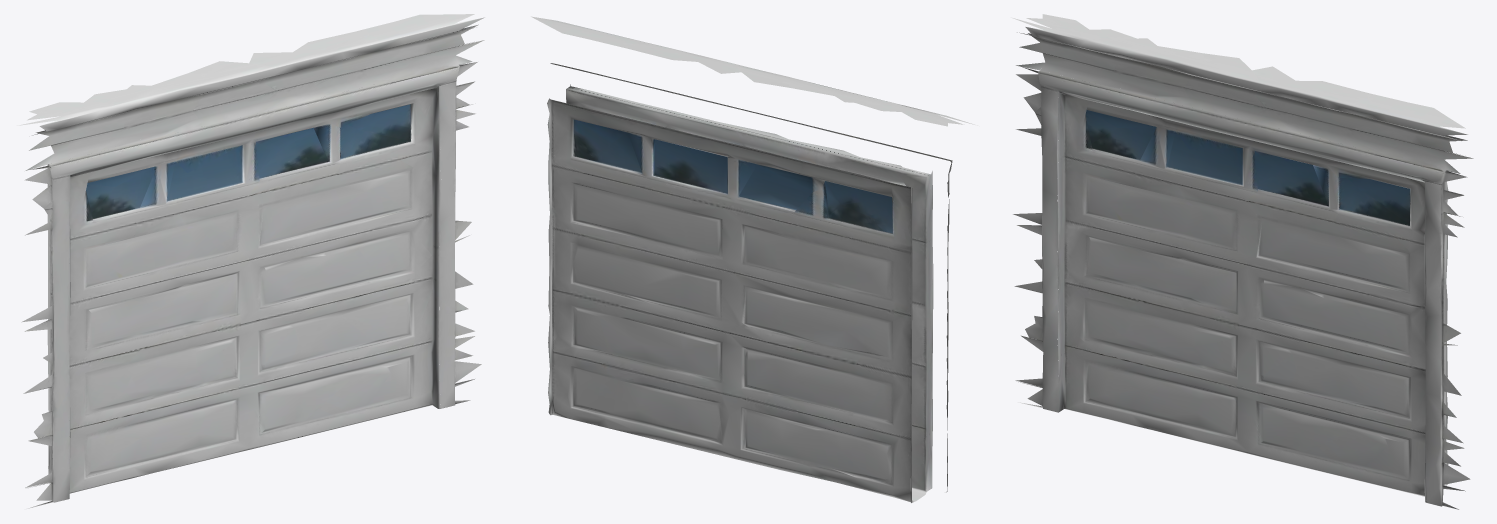
The model's file is kit-garage.glb.
3 views of the same model, side by side, from view 1: azimuth 30°, elevation 25°; view 2: azimuth 150°, elevation 25°; view 3: azimuth 330°, elevation 25° (orthographic). The views are drawn at different scales.
Visible parts, largest first — view 1: leaf, siding, trim; view 2: leaf, siding, trim; view 3: leaf, siding, trim.
Part boxes in pixels (left/top/right/bottom): leaf: left=47, top=86, right=441, bottom=493; siding: left=17, top=14, right=484, bottom=163; trim: left=21, top=62, right=481, bottom=508; leaf: left=547, top=84, right=933, bottom=502; siding: left=531, top=16, right=977, bottom=126; trim: left=550, top=63, right=952, bottom=492; leaf: left=1057, top=91, right=1448, bottom=502; siding: left=1011, top=14, right=1473, bottom=173; trim: left=1013, top=62, right=1470, bottom=509.
Bounding box in the file's own units: 3.79 × 2.99 × 0.3286.
2 materials, 2 textured.
